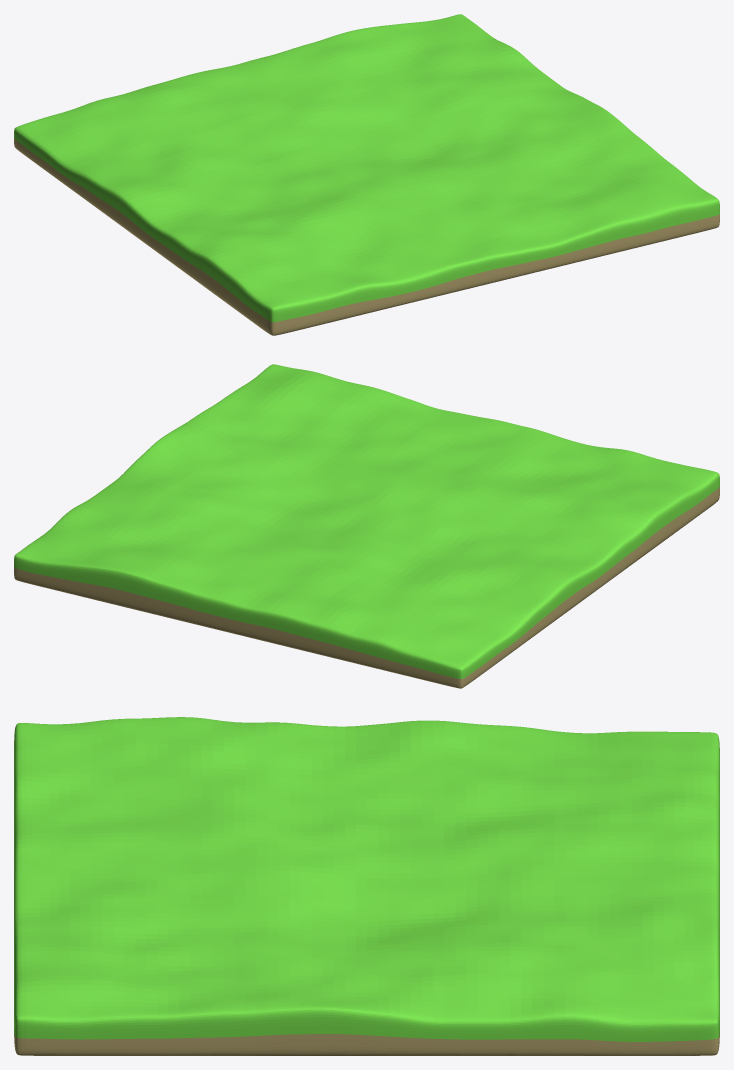
Rendered from ground.fbx.
3 views of the same model, one above another, from view 1: azimuth 30°, elevation 25°; view 2: azimuth 150°, elevation 25°; view 3: azimuth 270°, elevation 25° (orthographic). The views are drawn at different scales.
Parts seen in each view (by area): view 1: Plane; view 2: Plane; view 3: Plane.
Boxes of the visible parts, left/top/right/bottom form: Plane: left=14, top=14, right=719, bottom=335; Plane: left=14, top=364, right=719, bottom=688; Plane: left=14, top=717, right=719, bottom=1055.
Bounding box in the file's own units: 1294 × 103 × 1294.
